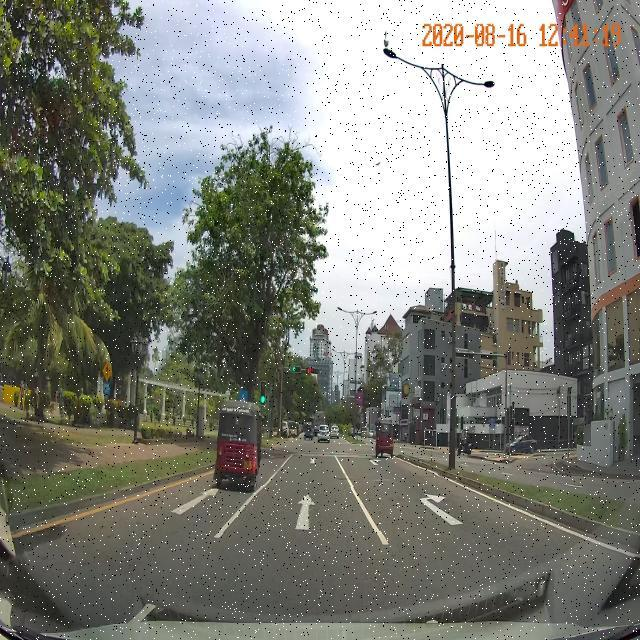forward: (223, 487, 380, 533)
